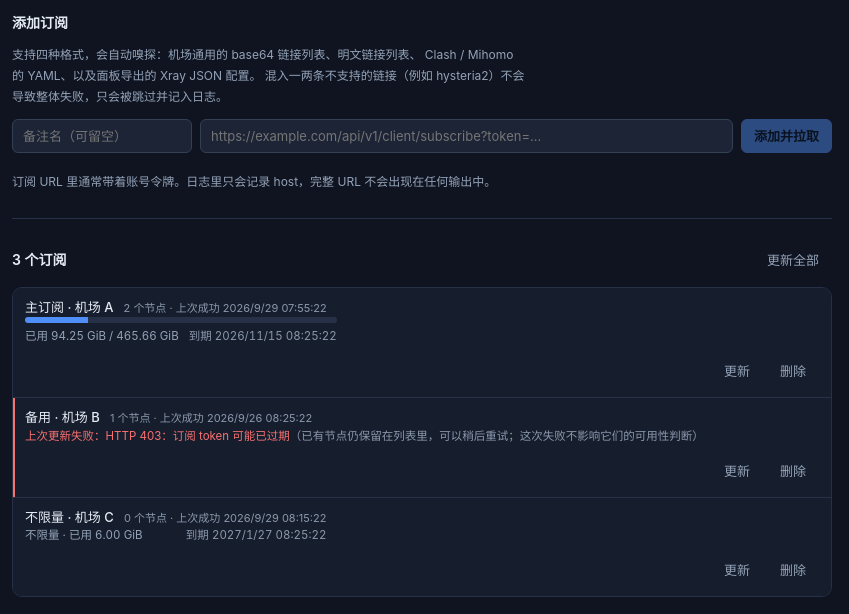
Test: task-120 · 删除订阅的确认语必须用「现在真有几个节点」 › 按 nodes[].source.id 现数：预览里 sub-1 的 node_count 是 3，但实际只有 2 个
Expected: the text "主订阅 · 机场 A" is shown, [25,297,114,317]
Expected: the text "主订阅 · 机场 A" shows "2 个节点", [13,288,831,398]
Click the 1st button "删除".
click(793, 371)  # box [767,354,819,388]
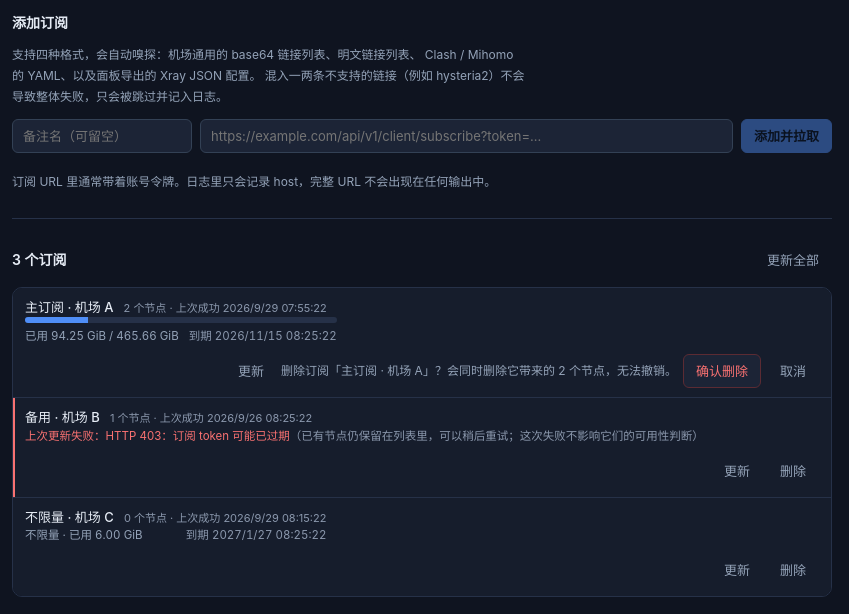
Expected: the text with class "confirm__question" shows "删除它带来的 2 个节点", [281,363,677,378]
